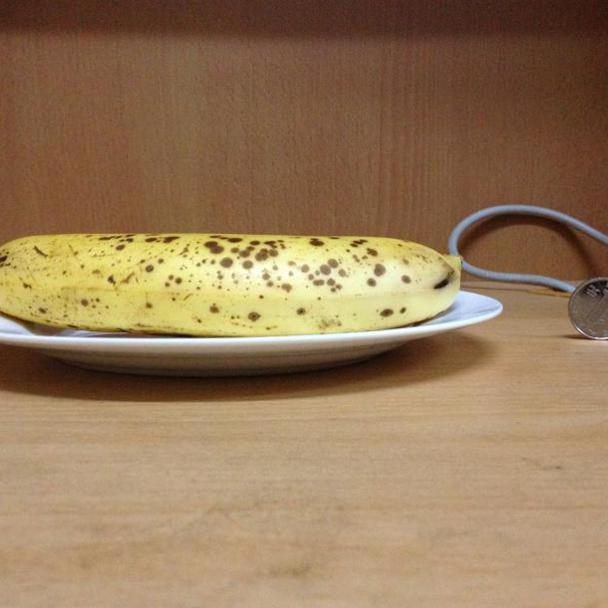banana: (1, 223, 484, 332)
